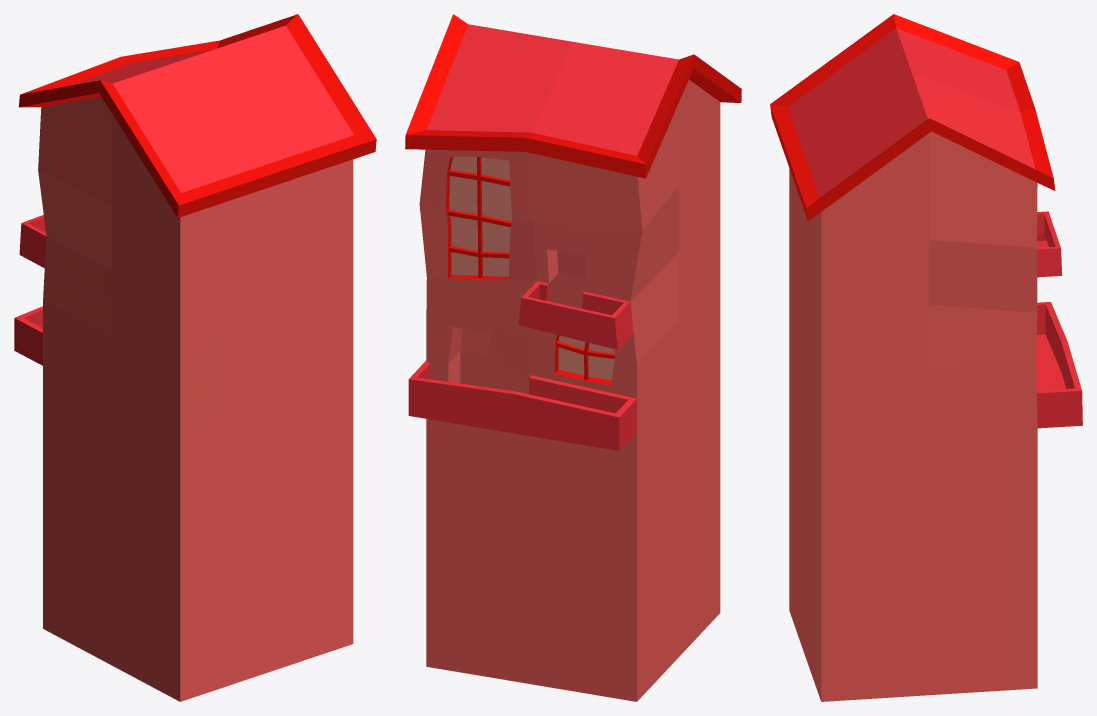
Rendered from Level_9.fbx.
3 views of the same model, side by side, from view 1: azimuth 30°, elevation 25°; view 2: azimuth 150°, elevation 25°; view 3: azimuth 270°, elevation 25° (orthographic). The views are drawn at different scales.
Visible parts, largest first — view 1: Cube.016; view 2: Cube.016; view 3: Cube.016.
Boxes of the visible parts, x1,y1,x2,y2 form: Cube.016: [14, 14, 376, 701]; Cube.016: [405, 14, 741, 701]; Cube.016: [770, 14, 1082, 701].
Size of the model in its own units: 3808 by 8594 by 4176.
